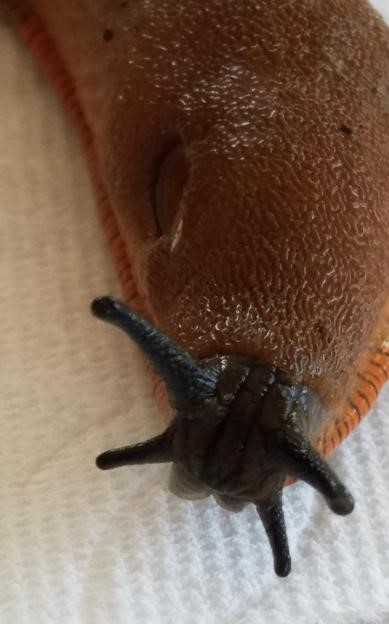slug: (24, 1, 385, 575)
